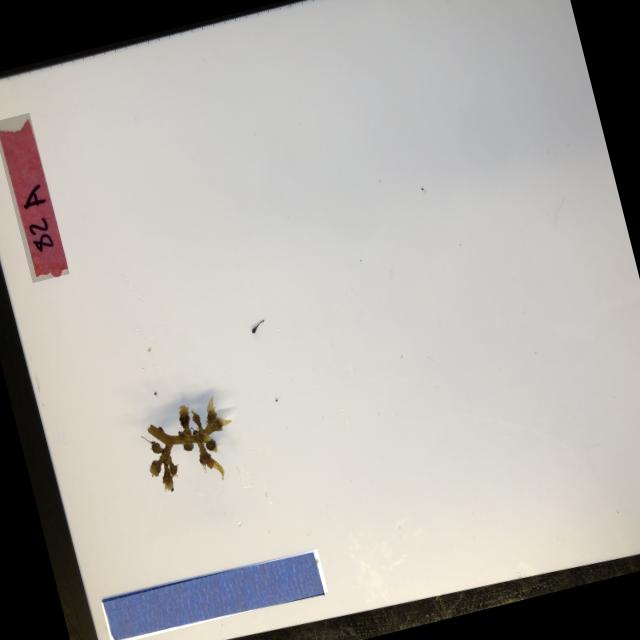index: (0, 111, 69, 281)
measure_label: (100, 547, 327, 640)
rachis_cluster: (130, 384, 246, 498)
